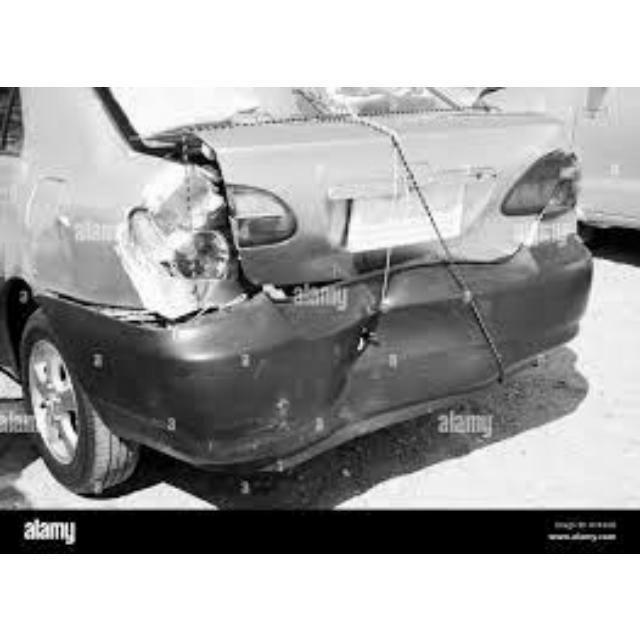Taillight-Damage: (133, 197, 290, 280)
boot-dent: (201, 120, 559, 282)
rear-bumper-dent: (256, 268, 543, 440)
